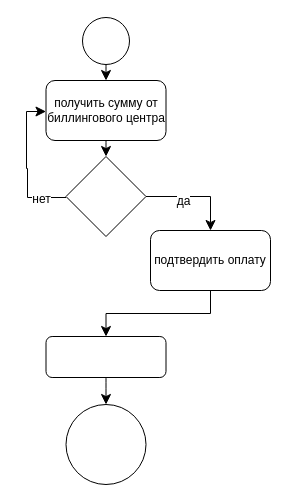
This 288x502 diagram has some shape labels left out. Each missing label, with the box of its shape:
выбрать способ оплаты: (45, 336, 166, 378)
сумма коректна?: (65, 156, 146, 236)
